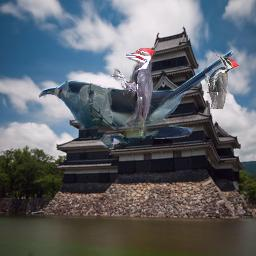Cuckoo: (39, 49, 240, 149)
Woodpecker: (110, 48, 156, 138), (205, 53, 239, 109)
